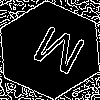M: (25, 25, 89, 84)
